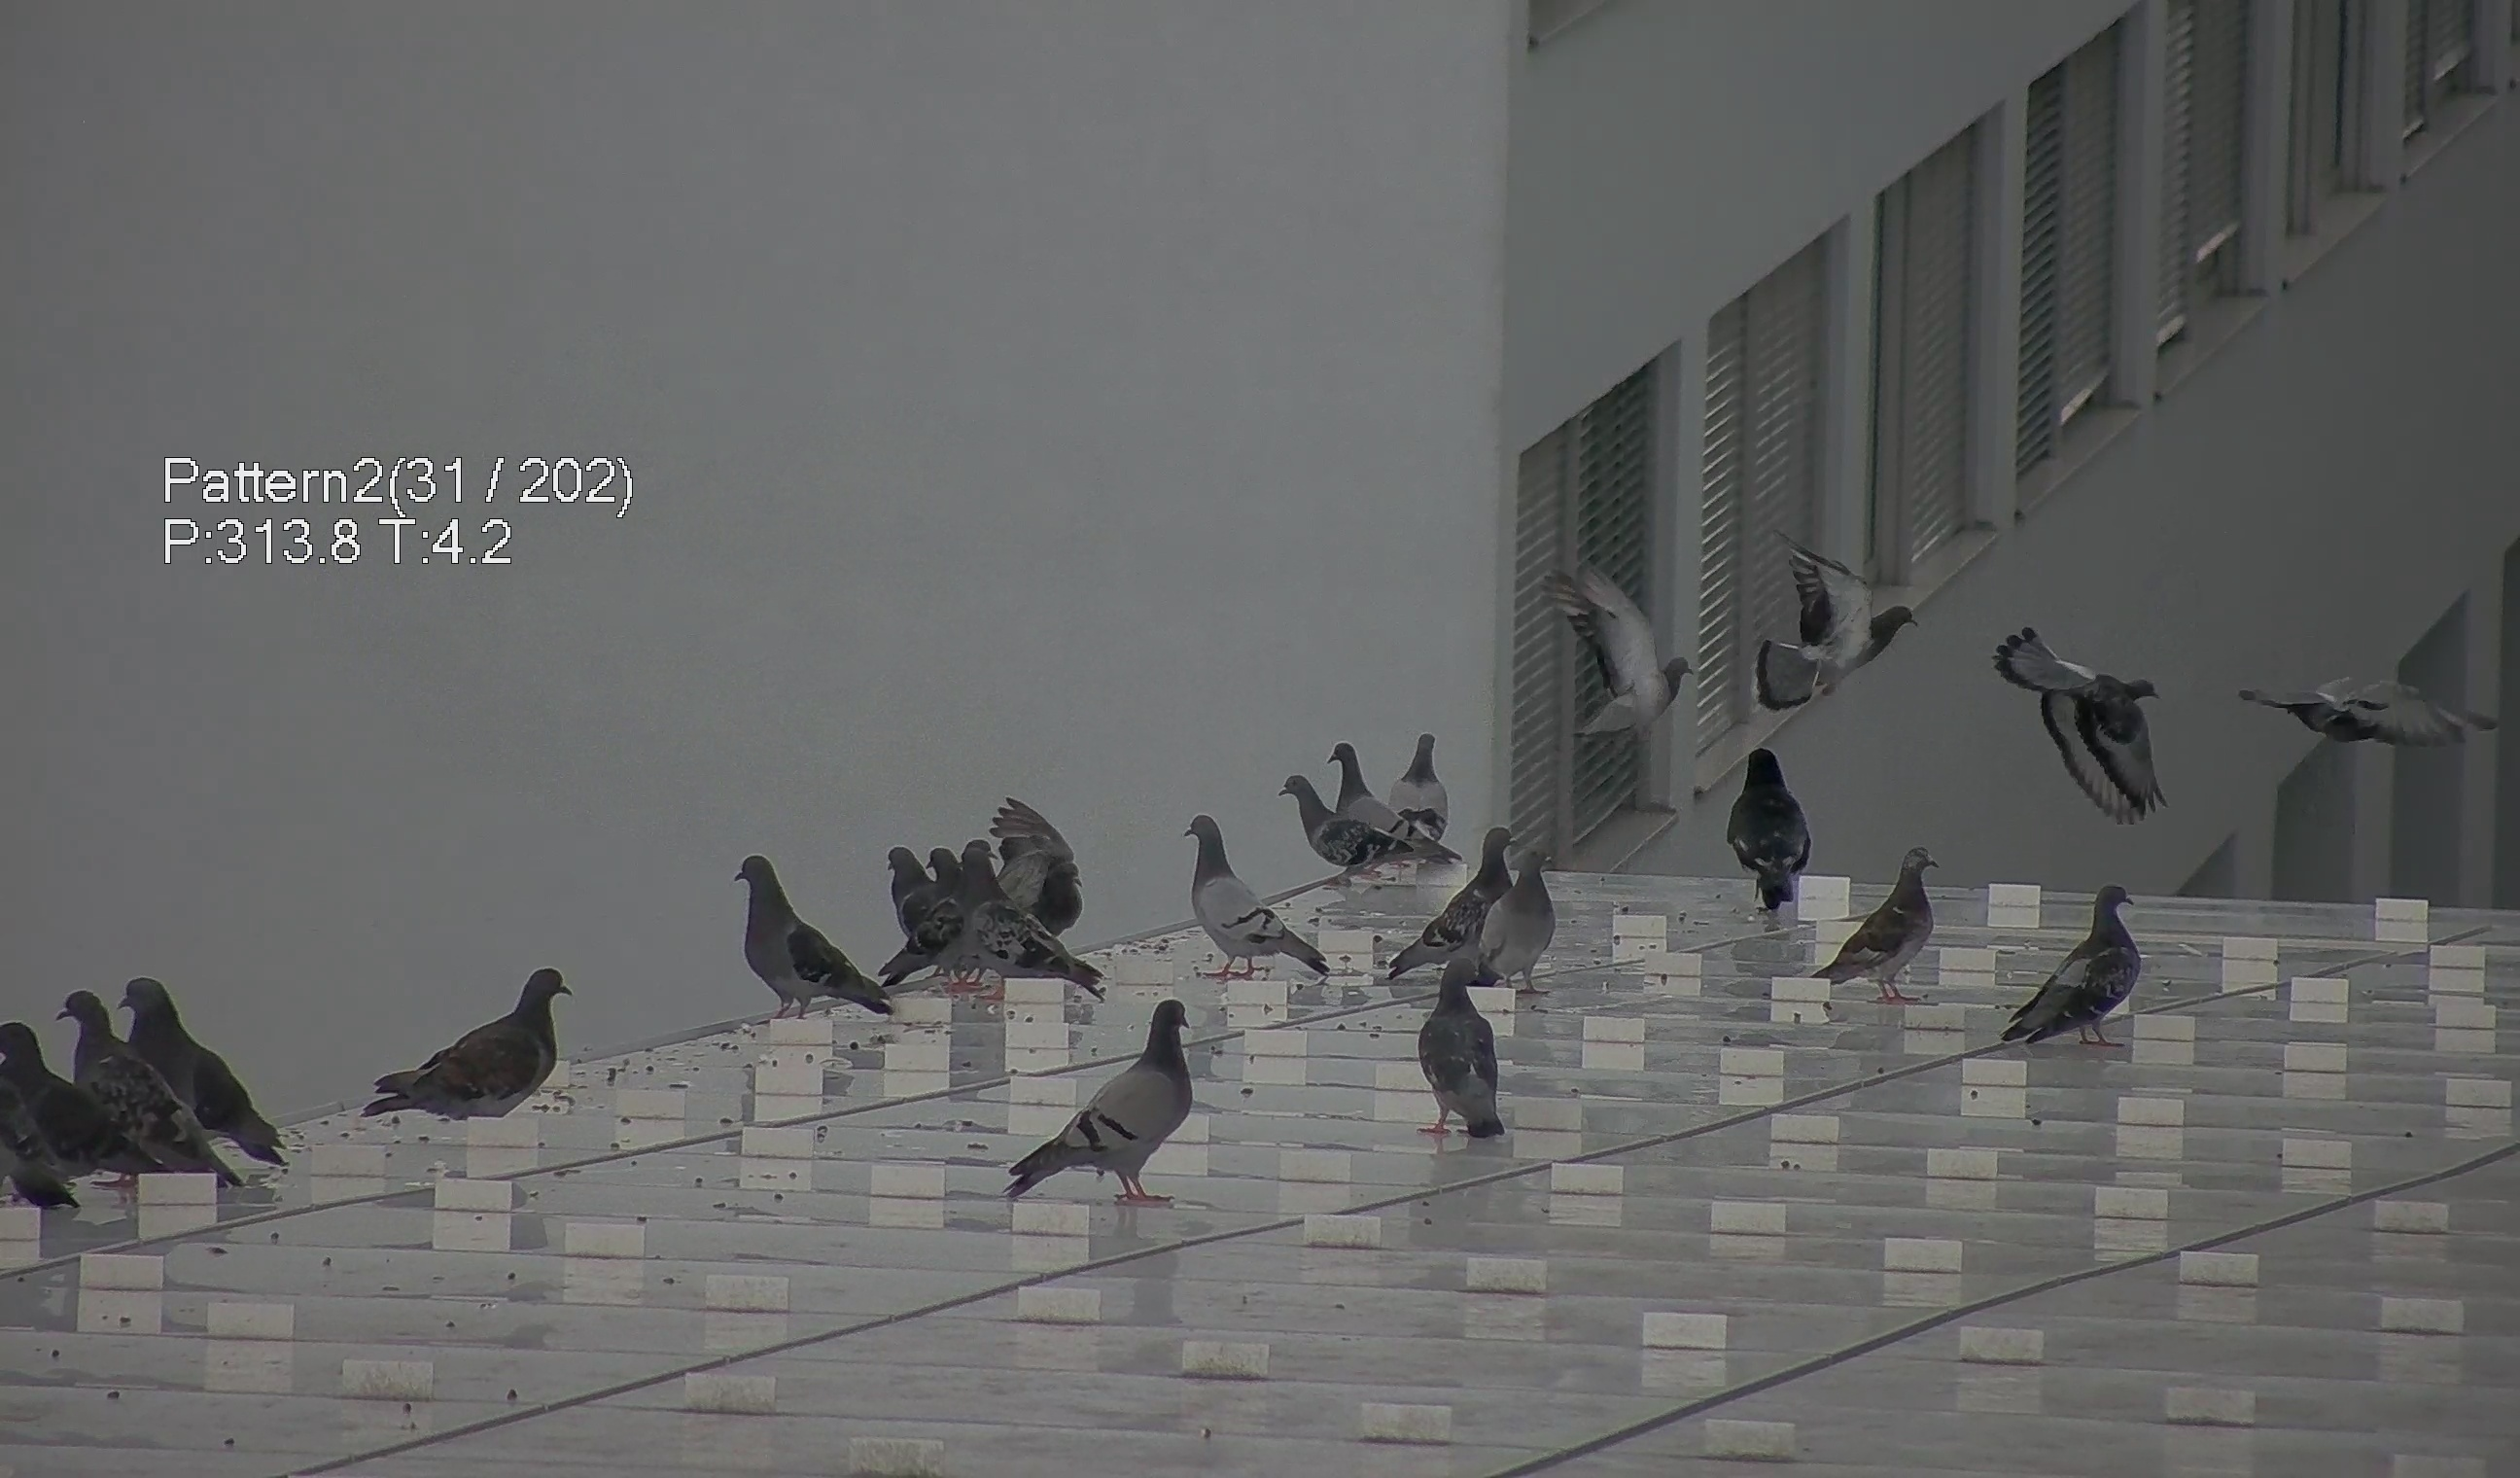Pigeon: (74, 968, 285, 1195), (1004, 999, 1210, 1225), (1991, 611, 2184, 830), (352, 959, 575, 1133), (42, 977, 209, 1195), (1166, 811, 1338, 1008), (714, 846, 895, 1031), (1759, 551, 1934, 711), (2007, 883, 2163, 1063), (2254, 642, 2504, 753), (1540, 567, 1693, 744), (957, 838, 1106, 1003), (1275, 735, 1431, 892), (2, 1013, 121, 1211), (1824, 845, 1957, 1008), (1720, 743, 1834, 920), (1412, 966, 1518, 1140), (1414, 813, 1526, 969), (1481, 829, 1569, 999), (869, 827, 969, 926), (1016, 811, 1099, 929), (1322, 732, 1400, 836), (1384, 725, 1458, 832)
